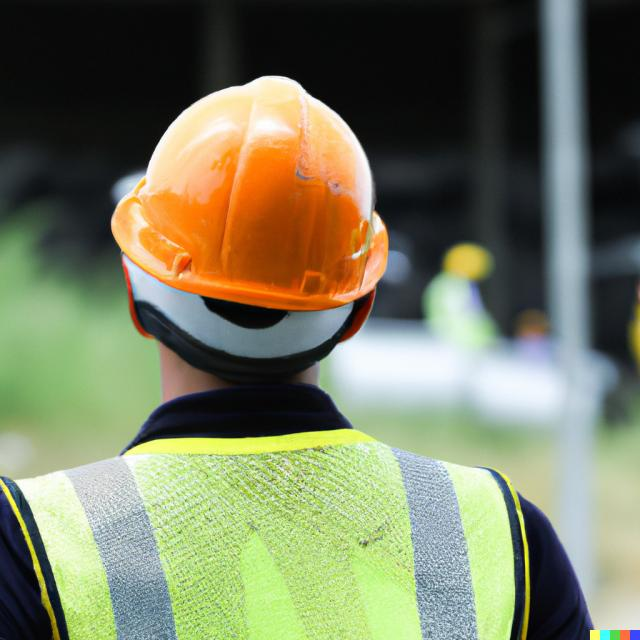Reflective-Jacket: (0, 424, 549, 635)
Safety-Helmet: (107, 75, 397, 306)
